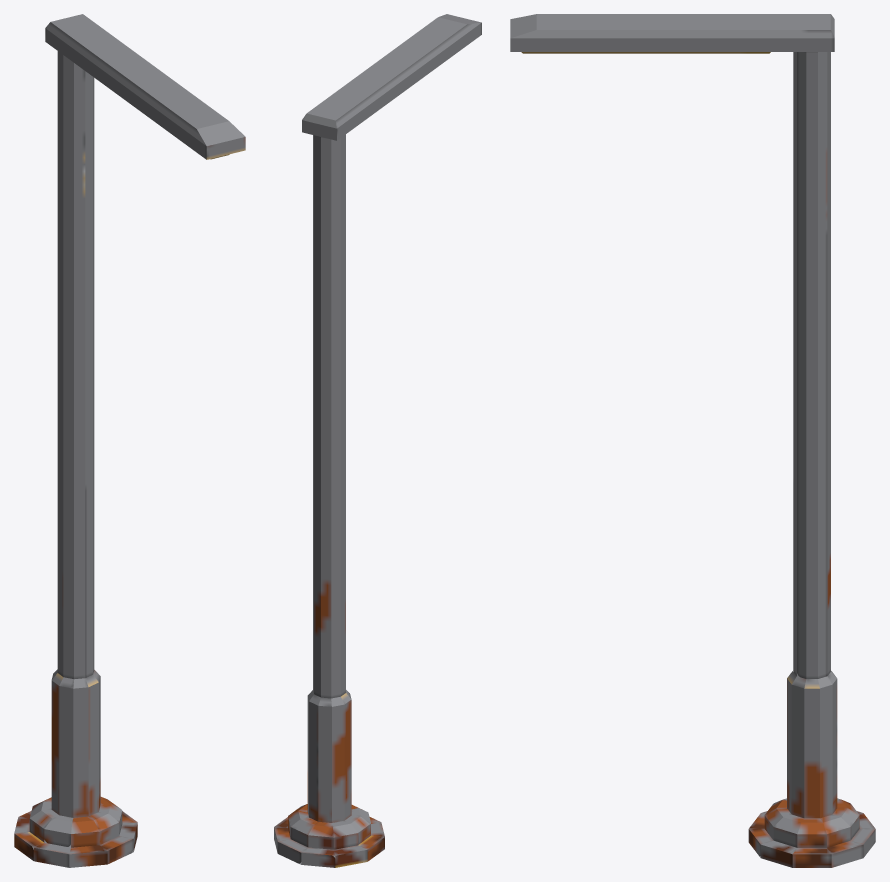
Rendered from Streetlight.obj.
3 views of the same model, side by side, from view 1: azimuth 30°, elevation 25°; view 2: azimuth 150°, elevation 25°; view 3: azimuth 270°, elevation 25° (orthographic). The views are drawn at different scales.
Visible parts, largest first — view 1: Body, Light; view 2: Body, Light; view 3: Body, Light.
Part boxes in pixels (x1,y1,x2,y2): Body: [14, 51, 137, 867]; Light: [45, 14, 245, 159]; Body: [274, 134, 384, 867]; Light: [302, 14, 481, 140]; Body: [748, 52, 875, 867]; Light: [510, 14, 834, 53].
Size of the model in its own units: 1 by 7.5 by 3.03.
Materials: 1 (1 with a texture image).
